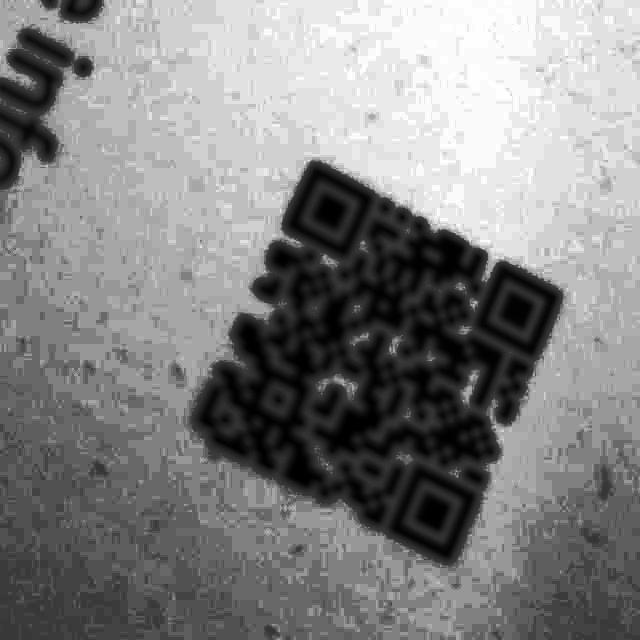qr_code: (167, 131, 600, 578)
